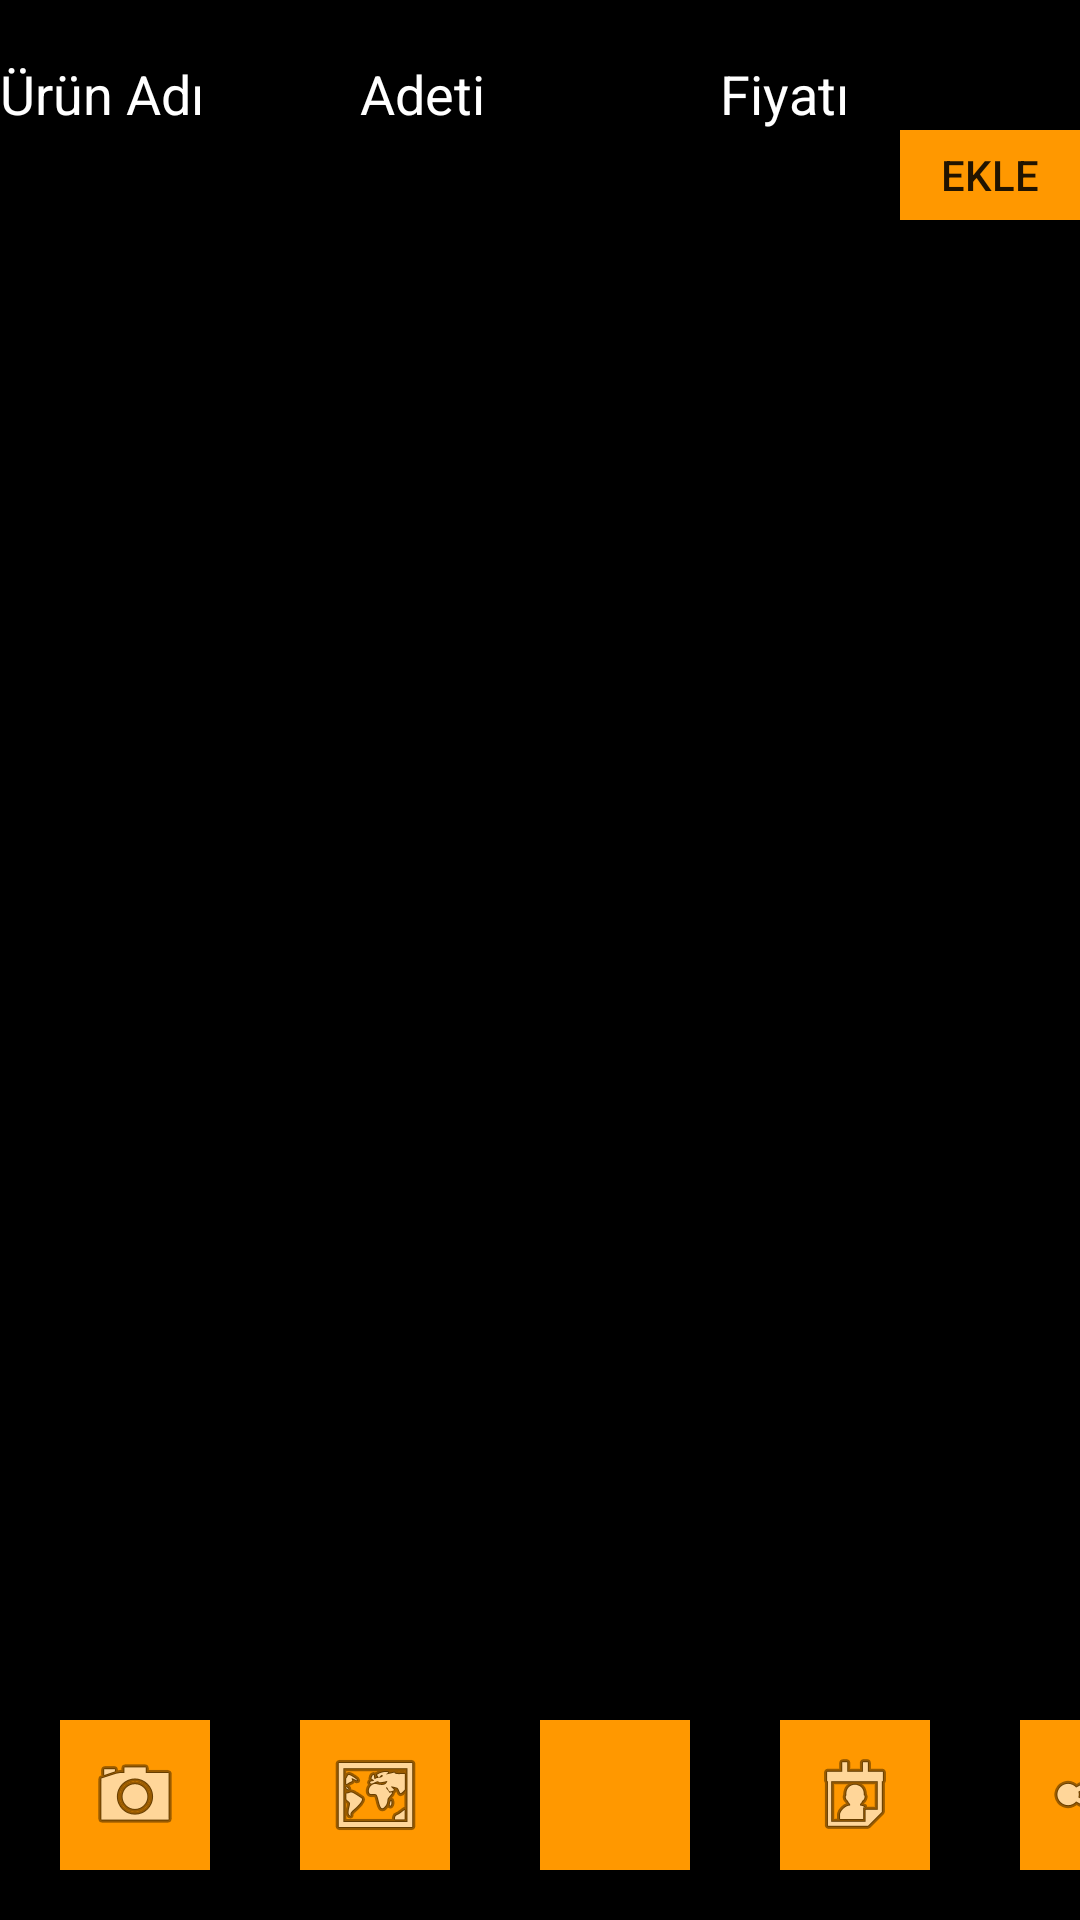

Named icons in this screenshot (1080 × 1920) and their bounding boxes, (x1, y1, x2, y2):
calendar: (780, 1720, 930, 1870)
camera: (60, 1720, 210, 1870)
mapmode: (300, 1720, 450, 1870)
